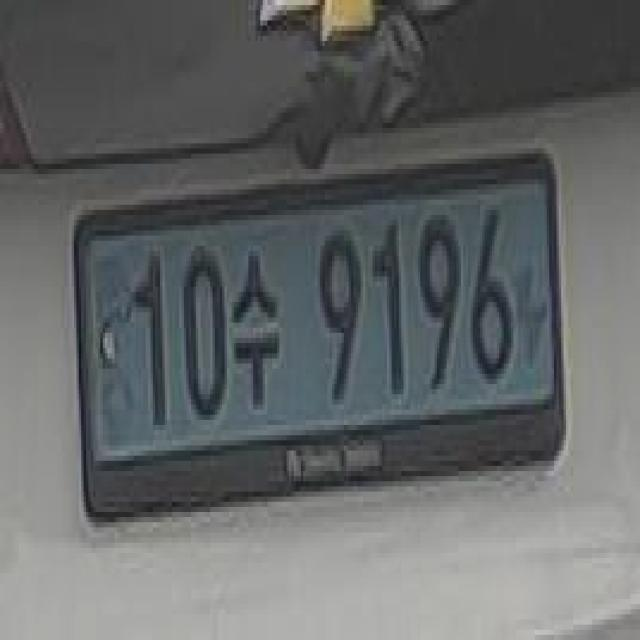EV_plate: (73, 140, 566, 535)
